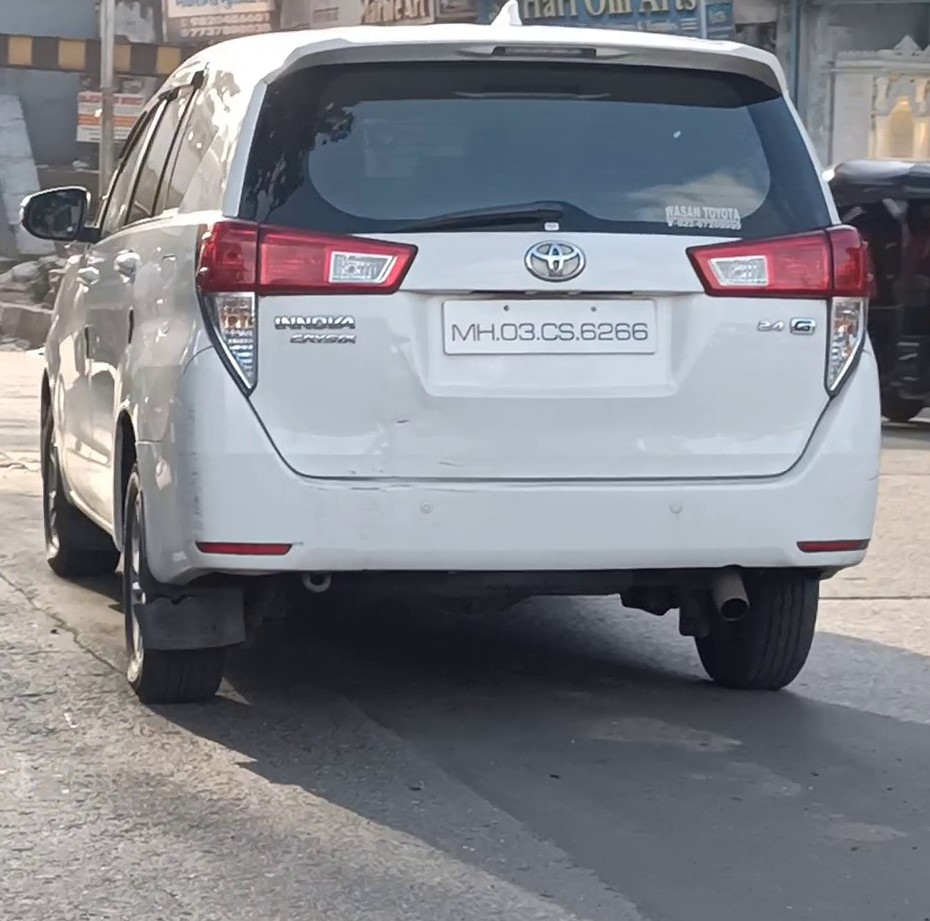MH03CS6266: (439, 297, 661, 356)
